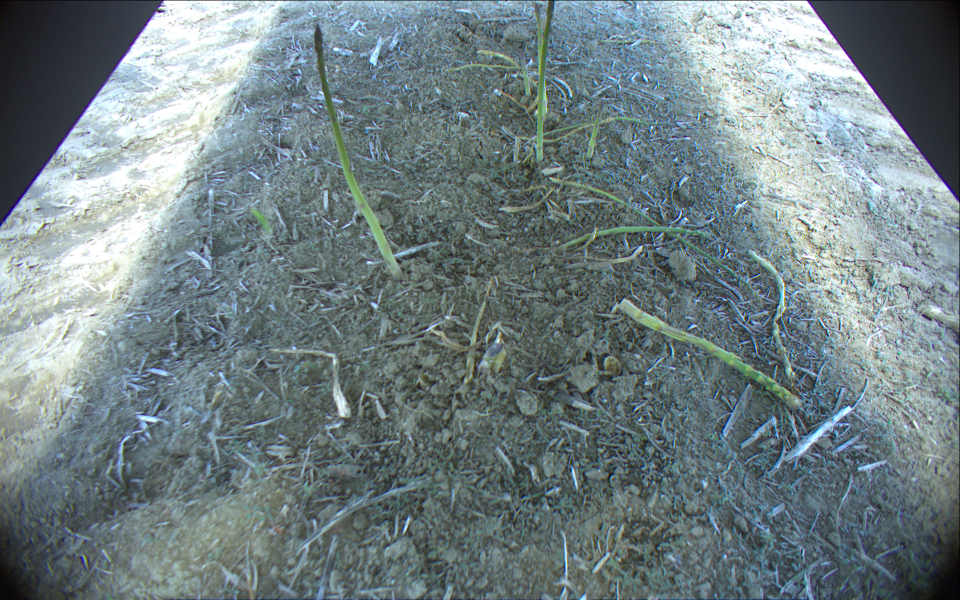aspa: (549, 176, 756, 288), (315, 27, 404, 277), (620, 300, 806, 413), (749, 251, 795, 377), (521, 118, 642, 150), (552, 224, 712, 248), (534, 1, 557, 162), (508, 118, 616, 143), (530, 1, 549, 115), (477, 334, 507, 375), (586, 98, 605, 158), (448, 64, 531, 74), (477, 49, 521, 65), (518, 51, 532, 98), (591, 37, 665, 43), (512, 135, 521, 166)
